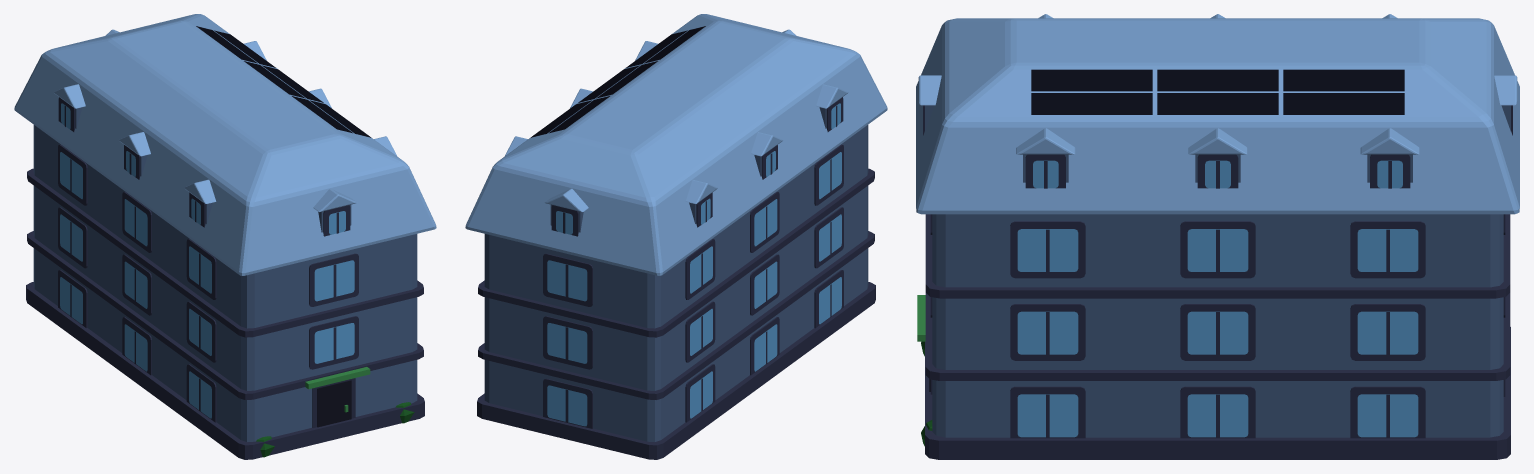
File: house-1x2-3f-mansard-b-solar.glb
3 renders of one model, left to right at view 1: azimuth 30°, elevation 25°; view 2: azimuth 150°, elevation 25°; view 3: azimuth 270°, elevation 25°, orthographic. The views are drawn at different scales.
Visible parts, largest first — view 1: house-1x2-3f-mansard-b-solar; view 2: house-1x2-3f-mansard-b-solar; view 3: house-1x2-3f-mansard-b-solar.
Part boxes in pixels (bbox=[...]): house-1x2-3f-mansard-b-solar: bbox=[14, 14, 436, 459]; house-1x2-3f-mansard-b-solar: bbox=[465, 14, 887, 459]; house-1x2-3f-mansard-b-solar: bbox=[916, 14, 1519, 459].
Bounding box in the file's own units: 0.9876 × 1.3 × 1.99.
Materials: 1 (1 with a texture image).
